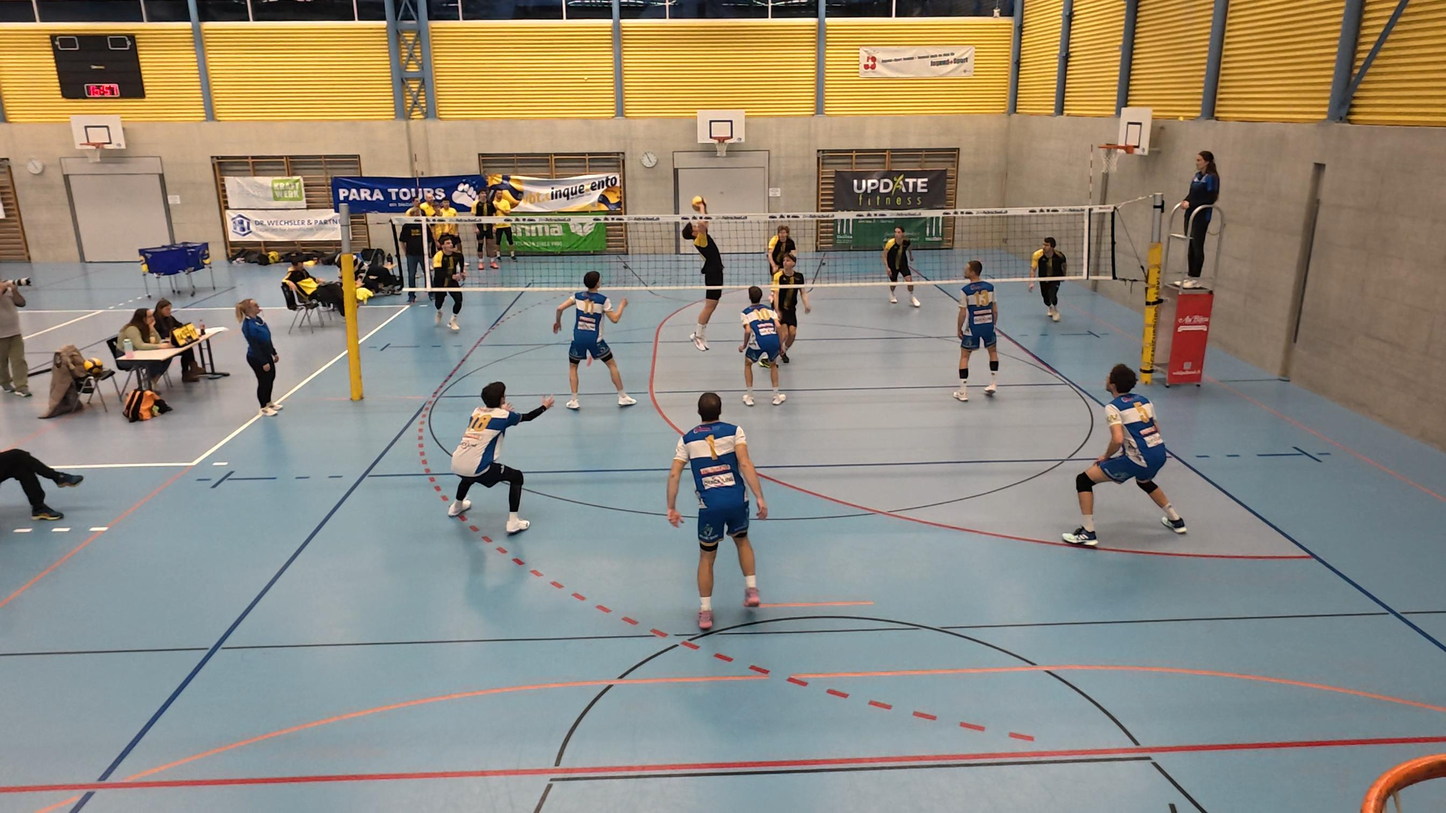alzata: (676, 202, 738, 355)
